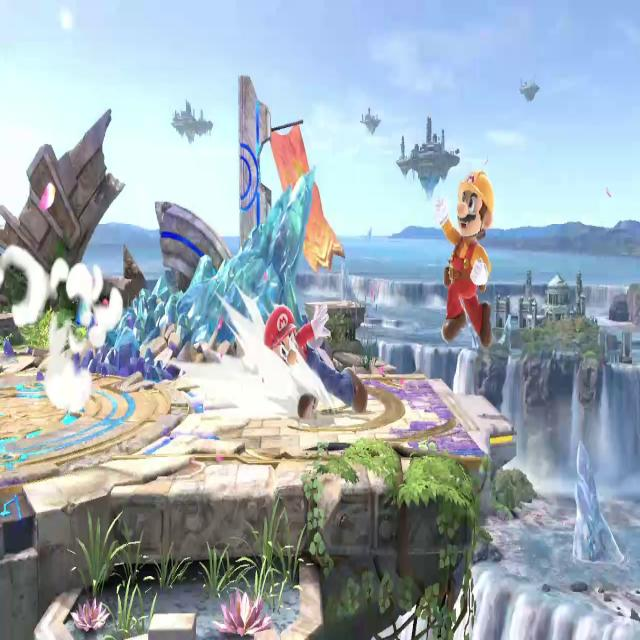Mario-DA: (246, 289, 370, 428)
Mario-jump: (430, 165, 503, 352)
